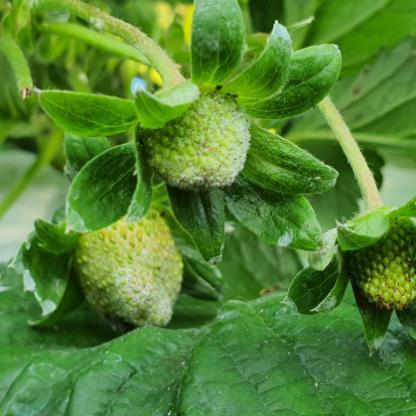Strawberry_Powdery_Mildew_Fruit: (138, 84, 254, 189), (88, 256, 186, 328)
